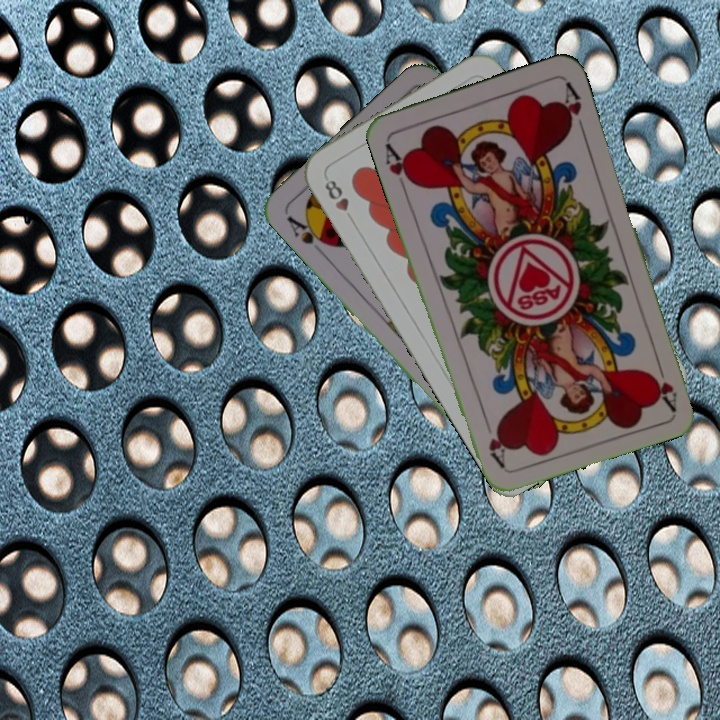H8: (320, 176, 357, 226)
HA: (380, 139, 418, 194), (647, 353, 680, 412)
SA: (282, 211, 333, 249)
